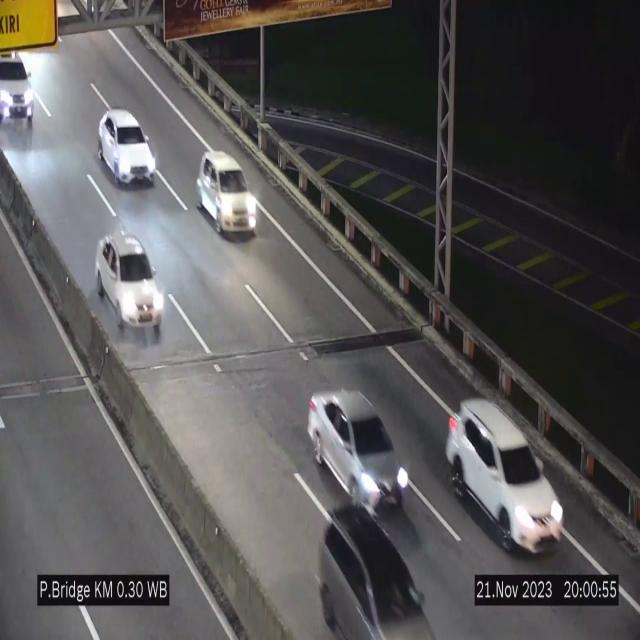Car: (313, 502, 451, 640), (446, 398, 566, 552), (308, 390, 410, 510), (95, 235, 163, 340), (197, 151, 258, 236), (99, 109, 156, 184), (0, 39, 38, 137)
